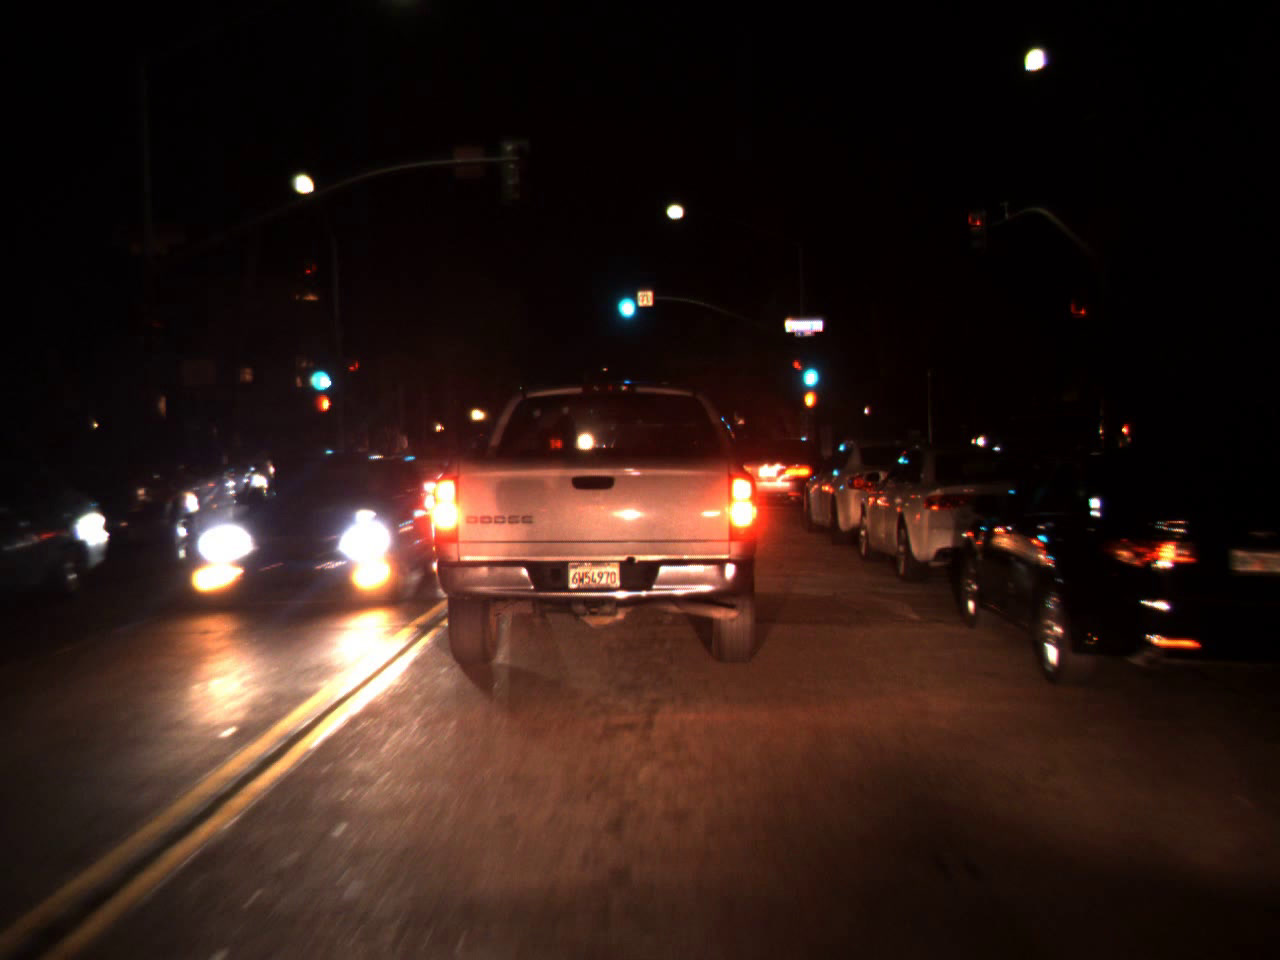go: (303, 345, 335, 399), (611, 273, 638, 324), (797, 346, 822, 394)
